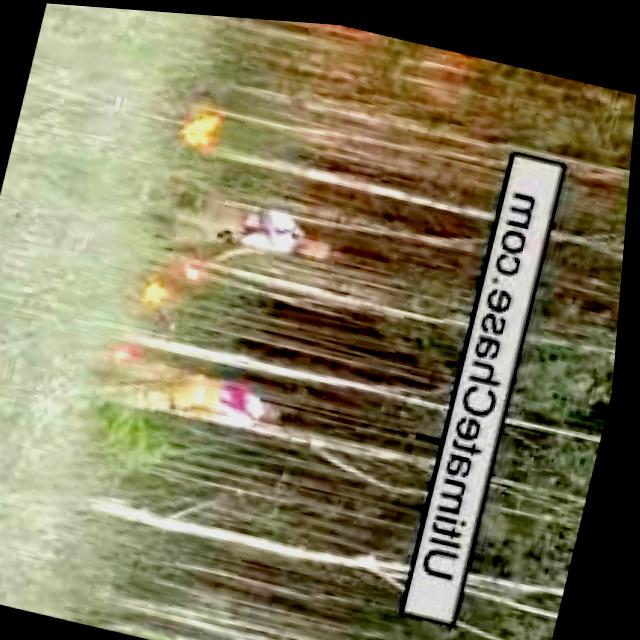helmet: (173, 93, 239, 160)
